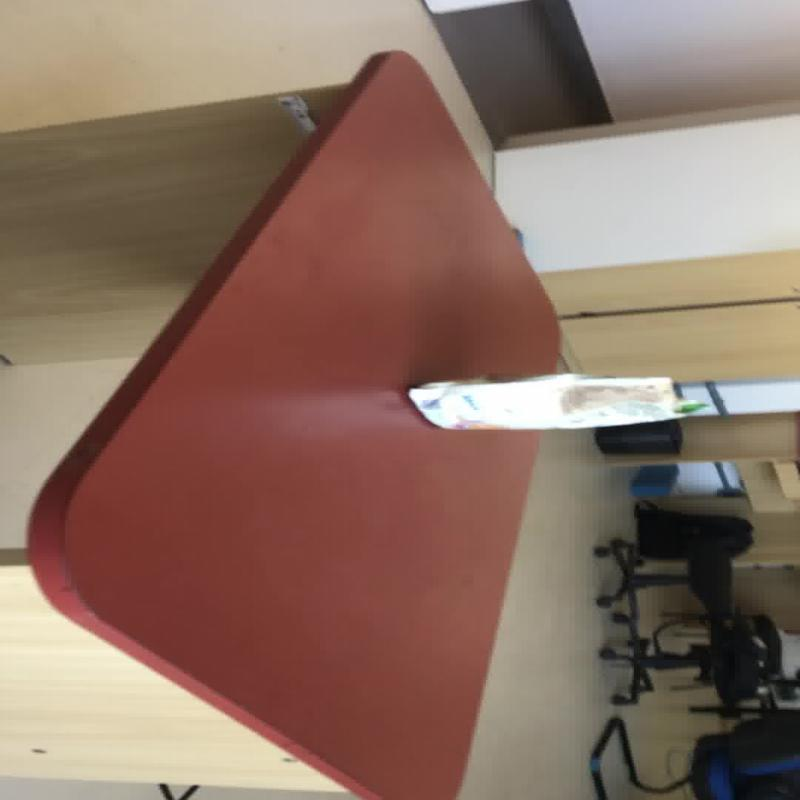corn flakes: (25, 47, 566, 796), (405, 372, 709, 430)
